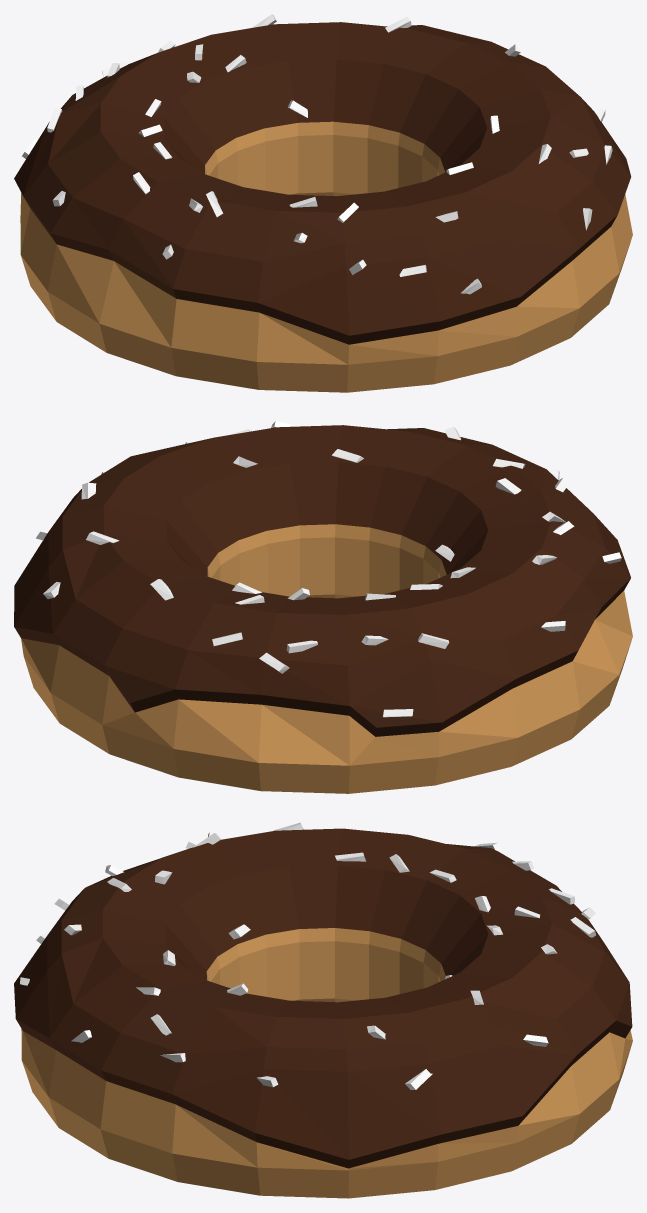
Rendered from Donut4.obj.
3 views of the same model, one above another, from view 1: azimuth 30°, elevation 25°; view 2: azimuth 150°, elevation 25°; view 3: azimuth 270°, elevation 25° (orthographic).
Parts seen in each view (by area): view 1: Donut4_DarkBrown, Donut4_LightYellow, Donut4_White; view 2: Donut4_DarkBrown, Donut4_LightYellow, Donut4_White; view 3: Donut4_DarkBrown, Donut4_LightYellow, Donut4_White.
Part boxes in pixels (x1,y1,x2,y2): Donut4_DarkBrown: (14, 22, 631, 344); Donut4_LightYellow: (20, 121, 632, 392); Donut4_White: (22, 14, 612, 294); Donut4_DarkBrown: (14, 425, 630, 736); Donut4_LightYellow: (21, 524, 632, 793); Donut4_White: (36, 421, 621, 717); Donut4_DarkBrown: (14, 828, 632, 1168); Donut4_LightYellow: (21, 928, 632, 1198); Donut4_White: (20, 822, 595, 1089).
Size of the model in its own units: 0.8811 by 0.2889 by 0.8675.
